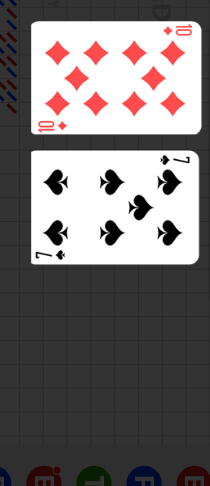10D: (161, 24, 193, 37)
7S: (34, 248, 67, 261)
